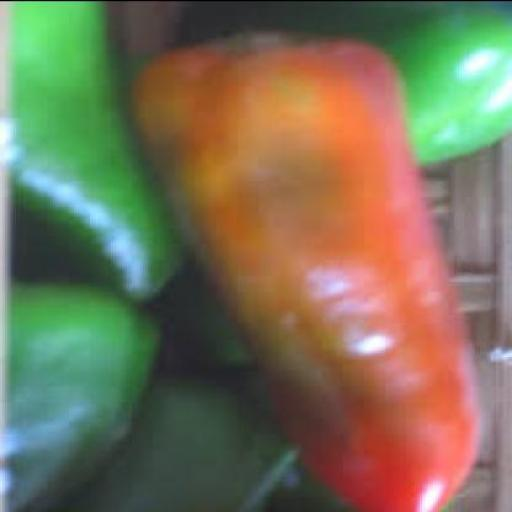biodegradable: (1, 0, 512, 511), (143, 27, 476, 511), (3, 2, 187, 295), (208, 2, 512, 168), (2, 278, 146, 511), (150, 369, 307, 511)
